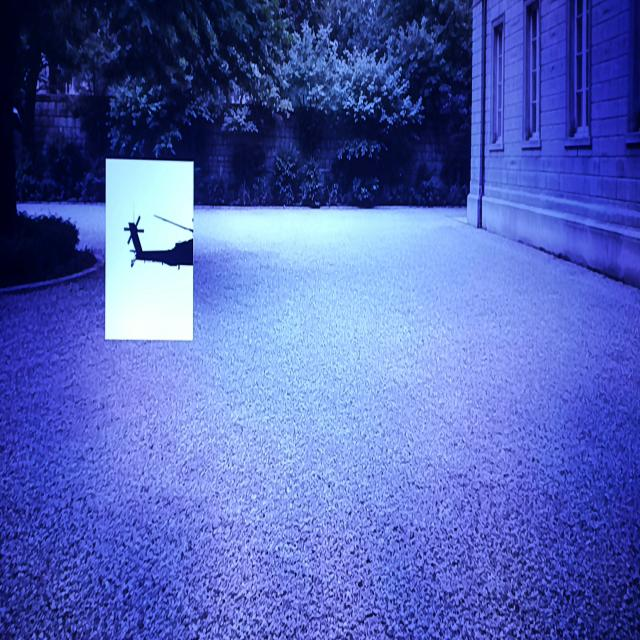Apache friendly: (124, 216, 192, 267)
